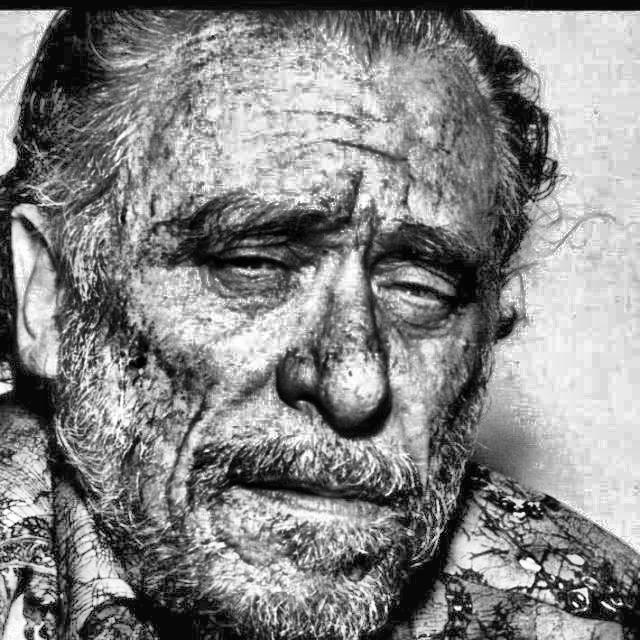sad: (91, 43, 517, 611)
